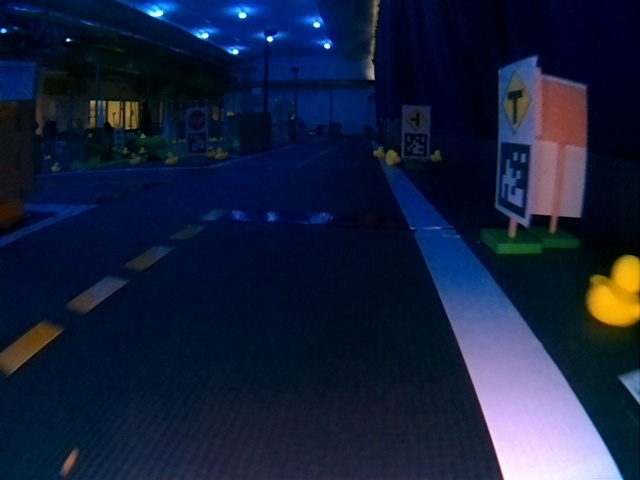Duckie: (587, 253, 639, 327), (166, 151, 178, 164), (386, 150, 399, 161), (215, 147, 226, 158), (432, 150, 442, 161), (374, 145, 384, 155), (129, 154, 139, 164)
Intersection sign: (499, 56, 535, 138), (404, 107, 428, 132)
QR code: (494, 141, 532, 221), (404, 134, 429, 158), (190, 133, 206, 153)
Stop sign: (188, 110, 206, 131)
